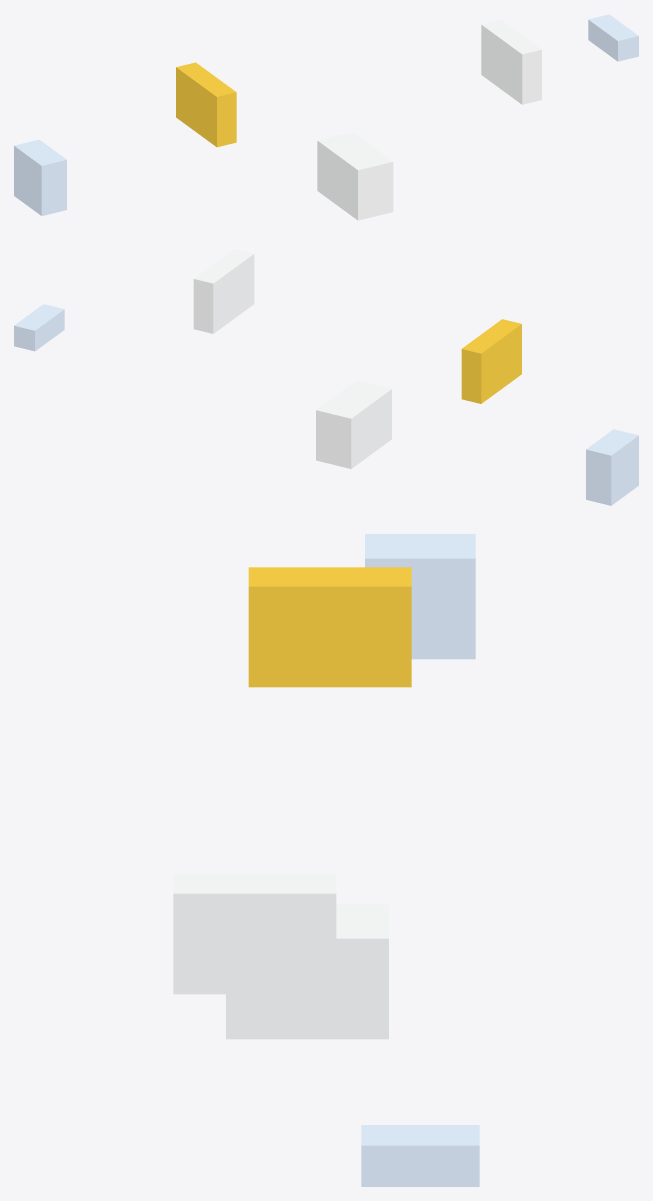
The picture shows the model from 3 angles, top to bottom: view 1: azimuth 30°, elevation 25°; view 2: azimuth 150°, elevation 25°; view 3: azimuth 270°, elevation 25°; orthographic projection. The views are drawn at different scales.
Parts seen in each view (by area): view 1: FFN ×3, Residual + norm ×3, Self-attention ×3, Patch + class token embed., Classifier / output; view 2: FFN ×3, Residual + norm ×3, Self-attention ×3, Patch + class token embed., Classifier / output; view 3: Self-attention ×3, Residual + norm ×3, FFN ×3, Patch + class token embed., Classifier / output.
Boxes of the visible parts, x1,y1,x2,y2 form: FFN ×3: [317, 132, 393, 220]; Residual + norm ×3: [481, 20, 541, 104]; Self-attention ×3: [176, 62, 236, 147]; Patch + class token embed.: [14, 139, 66, 215]; Classifier / output: [588, 14, 638, 61]; FFN ×3: [316, 380, 391, 468]; Residual + norm ×3: [193, 249, 254, 333]; Self-attention ×3: [461, 319, 521, 403]; Patch + class token embed.: [586, 429, 638, 505]; Classifier / output: [14, 304, 64, 351]; Self-attention ×3: [248, 567, 411, 687]; Residual + norm ×3: [173, 874, 336, 994]; FFN ×3: [226, 904, 388, 1039]; Patch + class token embed.: [365, 534, 475, 659]; Classifier / output: [361, 1125, 479, 1186].
Size of the model in its own units: 33.88 by 8.28 by 7.53.
